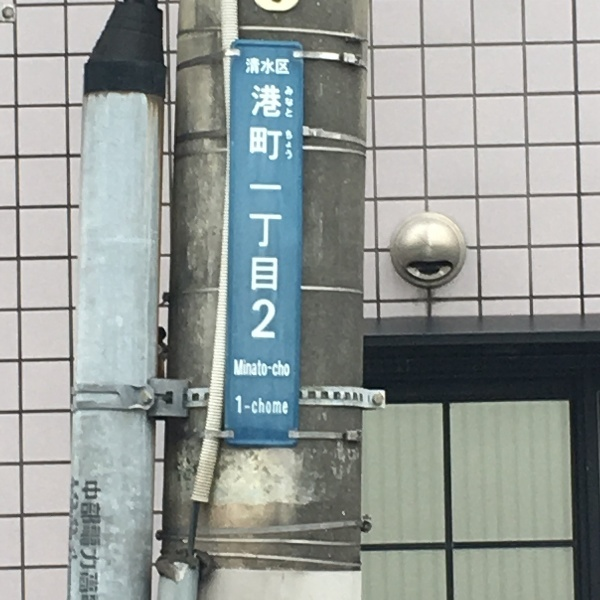text: (257, 81, 272, 341), (273, 81, 283, 341), (82, 481, 96, 599), (251, 81, 256, 341), (71, 476, 80, 567), (97, 481, 102, 599), (273, 395, 289, 415), (241, 395, 256, 415), (257, 395, 272, 415), (257, 57, 272, 76), (273, 57, 288, 76), (241, 359, 256, 377), (257, 359, 272, 377), (273, 359, 288, 377), (246, 57, 256, 76), (289, 85, 294, 120), (284, 85, 288, 120), (289, 130, 293, 161), (234, 359, 240, 377), (235, 395, 240, 415), (285, 130, 288, 161), (289, 57, 290, 76), (289, 359, 290, 377)
